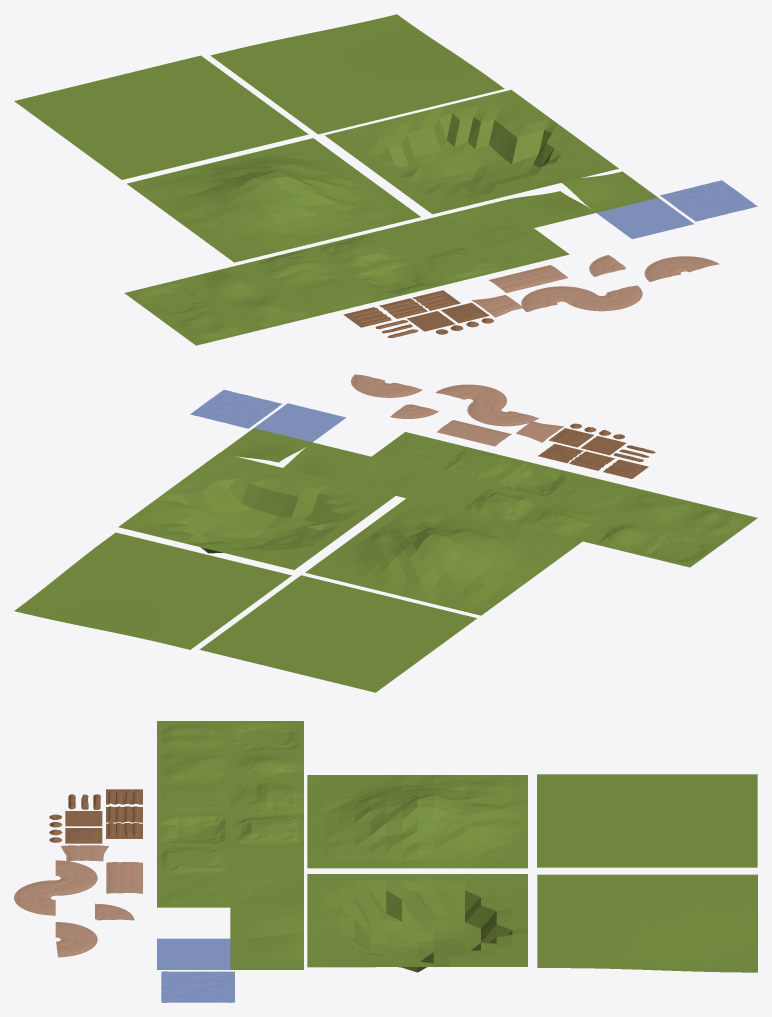
File: TerrainAndGrounds.fbx
3 renders of one model, top to bottom at view 1: azimuth 30°, elevation 25°; view 2: azimuth 150°, elevation 25°; view 3: azimuth 270°, elevation 25°, orthographic. The views are drawn at different scales.
Parts seen in each view (by area): view 1: Terrainpart15, Mountaingreen, Mountaingreen1, Terrainpart16, Terrainpart13, path2, Terrainpart, Terrainpart8, Terrainpart9, Terrainpart2, Terrainpart4, Terrainpart6 (+17 smaller); view 2: Terrainpart16, Mountaingreen1, Terrainpart15, Mountaingreen, path2, Water_With_Waves, Terrainpart3, Terrainpart4, Terrainpart5, Terrainpart7, Terrainpart, Terrainpart9 (+12 smaller); view 3: Terrainpart16, Mountaingreen, Terrainpart15, Mountaingreen1, Terrainpart13, path2, Terrainpart1, Terrainpart2, Terrainpart4, Terrainpart5, Terrainpart6, Terrainpart8 (+18 smaller).
Boxes of the visible parts, x1,y1,x2,y2 form: Terrainpart15: (14, 55, 308, 179); Mountaingreen: (127, 138, 420, 262); Mountaingreen1: (325, 89, 618, 214); Terrainpart16: (210, 14, 504, 134); Terrainpart13: (560, 171, 657, 212); path2: (521, 285, 642, 312); Terrainpart: (223, 289, 320, 330); Terrainpart8: (373, 217, 470, 258); Terrainpart9: (472, 228, 569, 269); Terrainpart2: (187, 262, 284, 303); Terrainpart4: (124, 278, 221, 319); Terrainpart6: (311, 232, 408, 273); Terrainpart16: (14, 532, 291, 649); Mountaingreen1: (118, 452, 395, 569); Terrainpart15: (199, 575, 476, 692); Mountaingreen: (305, 498, 582, 615); path2: (435, 384, 538, 426); Water_With_Waves: (190, 390, 281, 428); Terrainpart3: (665, 503, 757, 542); Terrainpart4: (632, 528, 723, 567); Terrainpart5: (489, 460, 580, 499); Terrainpart7: (431, 446, 522, 485); Terrainpart: (607, 489, 698, 528); Terrainpart9: (371, 432, 463, 470); Terrainpart16: (537, 874, 757, 972); Mountaingreen: (307, 775, 527, 868); Terrainpart15: (537, 774, 757, 867); Mountaingreen1: (307, 874, 527, 972); Terrainpart13: (230, 934, 303, 969); path2: (14, 860, 97, 915); Terrainpart1: (230, 783, 303, 814); Terrainpart2: (230, 752, 303, 783); Terrainpart4: (230, 721, 303, 752); Terrainpart5: (157, 814, 230, 845); Terrainpart6: (230, 814, 303, 845); Terrainpart8: (230, 845, 303, 876).
Bounding box in the file's own units: 0.5432 × 0.0457 × 0.6067.
2 materials, 2 textured.
